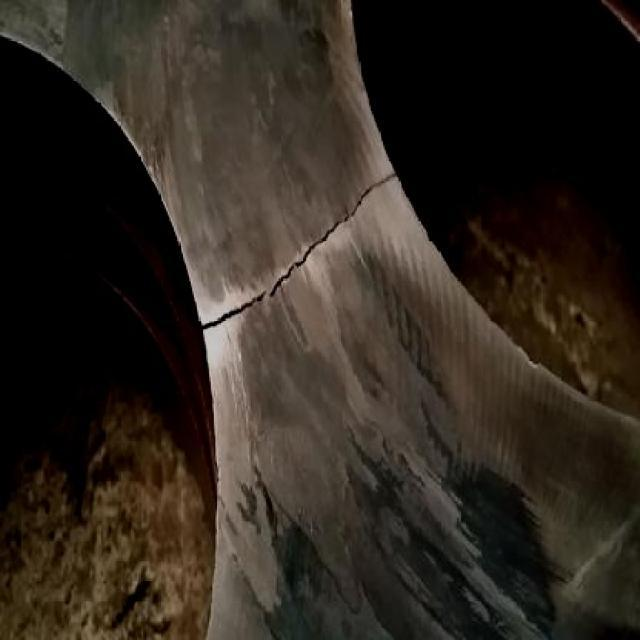crack: (204, 275, 284, 328), (287, 226, 338, 272), (350, 175, 390, 218)
